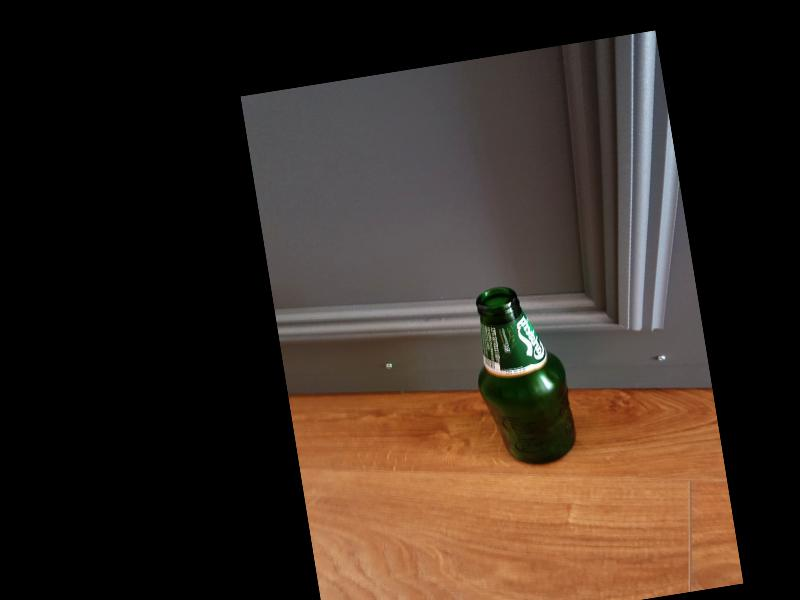Beer: (463, 279, 580, 472)
